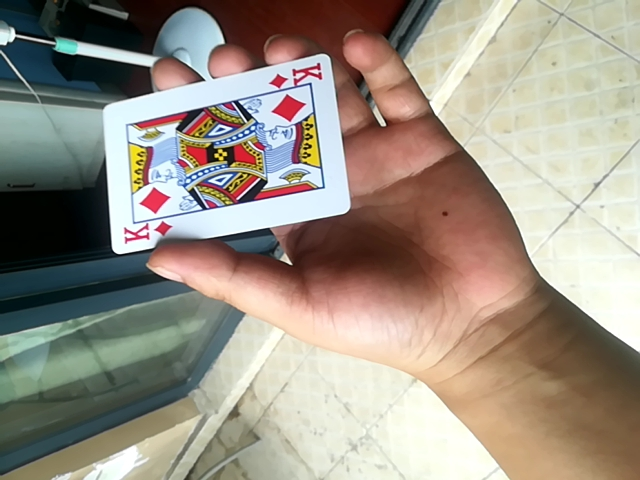fk k: (95, 53, 352, 260)
